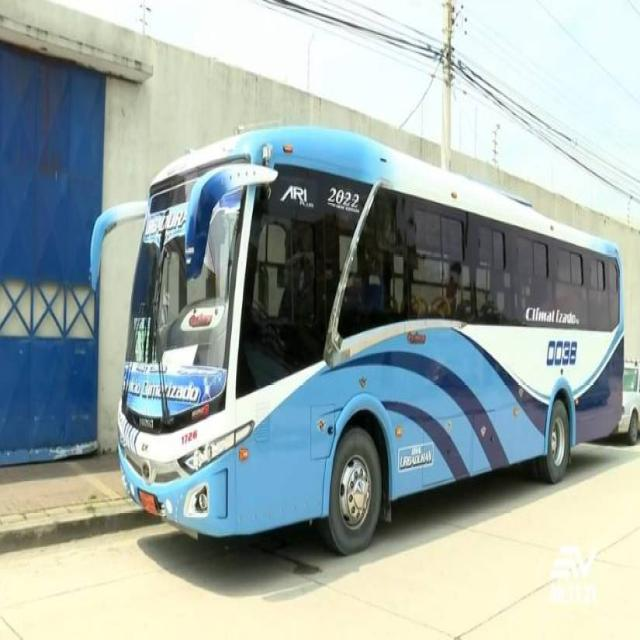BUS: (89, 121, 625, 556)
